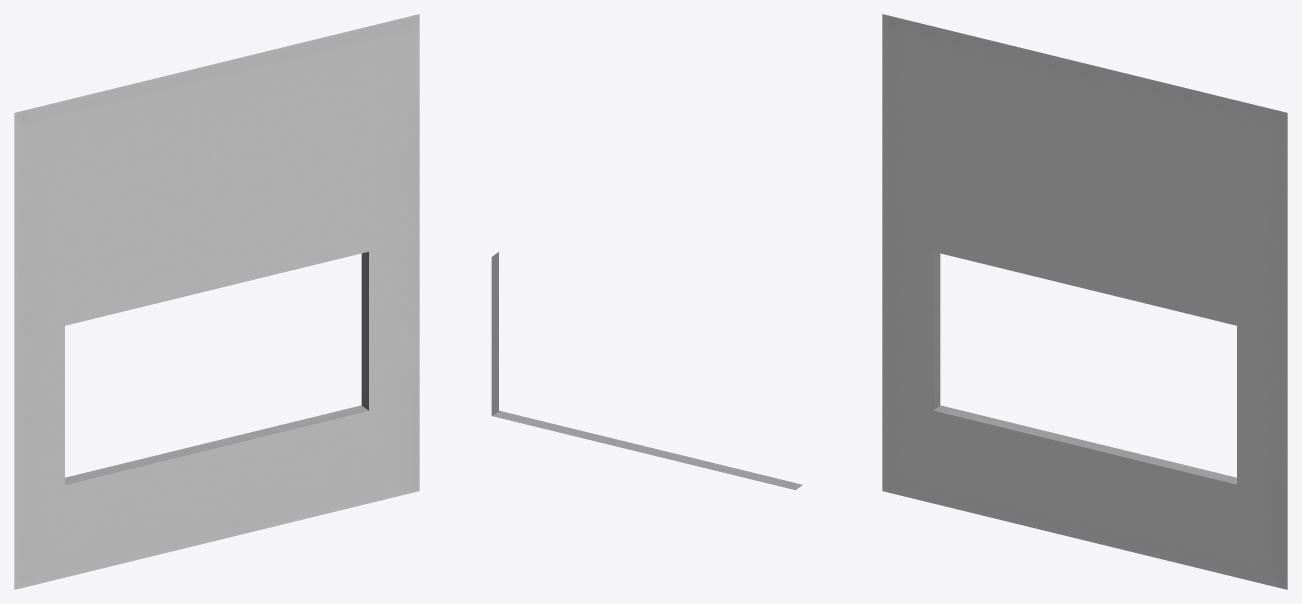
The model's file is Wall4x4_5Win3x1_5Horz.gltf.
The picture shows the model from 3 angles, left to right: view 1: azimuth 30°, elevation 25°; view 2: azimuth 150°, elevation 25°; view 3: azimuth 330°, elevation 25°; orthographic projection.
Visible parts, largest first — view 1: Wall4x4_5Win3x1_5HorzShape; view 2: Wall4x4_5Win3x1_5HorzShape; view 3: Wall4x4_5Win3x1_5HorzShape.
Part boxes in pixels (left/top/right/bottom): Wall4x4_5Win3x1_5HorzShape: left=14, top=14, right=419, bottom=589; Wall4x4_5Win3x1_5HorzShape: left=491, top=252, right=802, bottom=489; Wall4x4_5Win3x1_5HorzShape: left=882, top=14, right=1287, bottom=589.
Bounding box in the file's own units: 4 × 4.5 × 0.125.
Materials: 1 (1 with a texture image).
